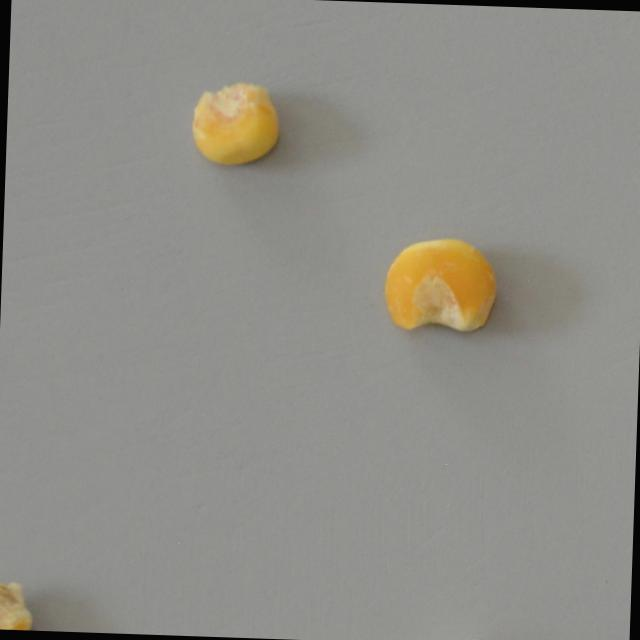no_desgerminado: (0, 572, 35, 630)
pelicula: (382, 233, 502, 335), (189, 79, 282, 168)
